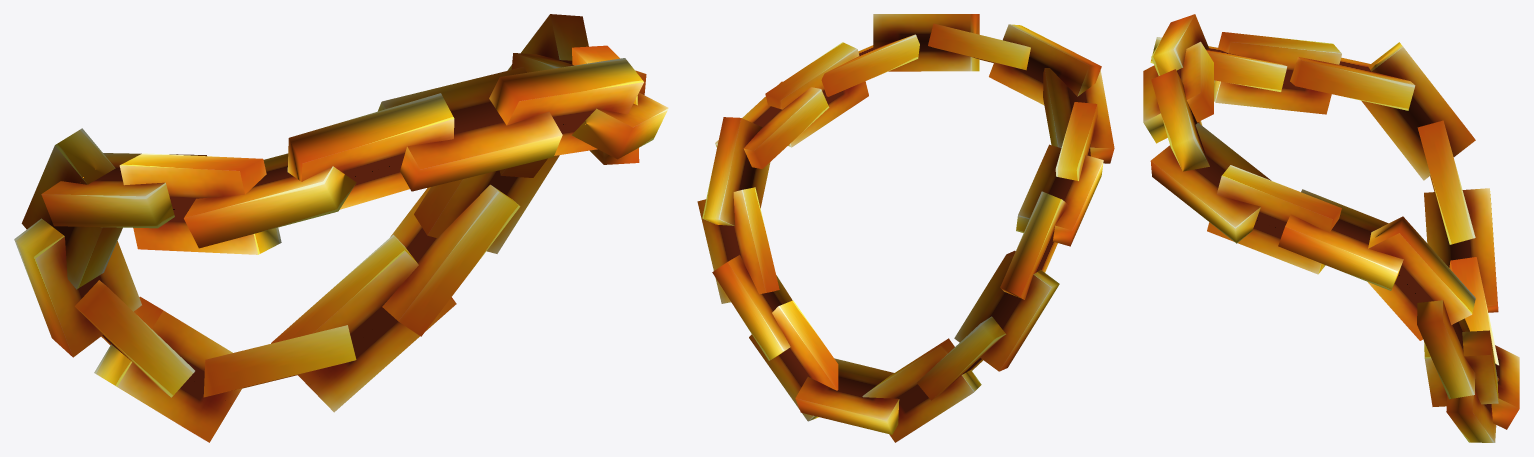
Rendered from goldChain.fbx.
3 renders of one model, left to right at view 1: azimuth 30°, elevation 25°; view 2: azimuth 150°, elevation 25°; view 3: azimuth 270°, elevation 25°, orthographic. The views are drawn at different scales.
Parts seen in each view (by area): view 1: goldChain; view 2: goldChain; view 3: goldChain.
Boxes of the visible parts, x1,y1,x2,y2 form: goldChain: (14,14,668,442); goldChain: (697,14,1114,442); goldChain: (1143,14,1519,442).
Bounding box in the file's own units: 4.07 × 3.41 × 3.21.
